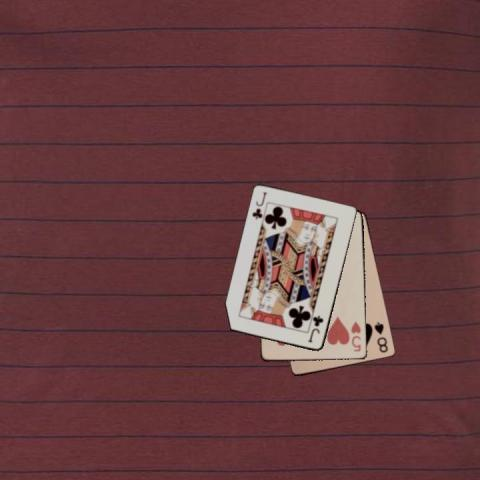5h: (349, 318, 362, 352)
8s: (372, 319, 390, 354)
Jc: (249, 190, 269, 222), (306, 313, 325, 344)
